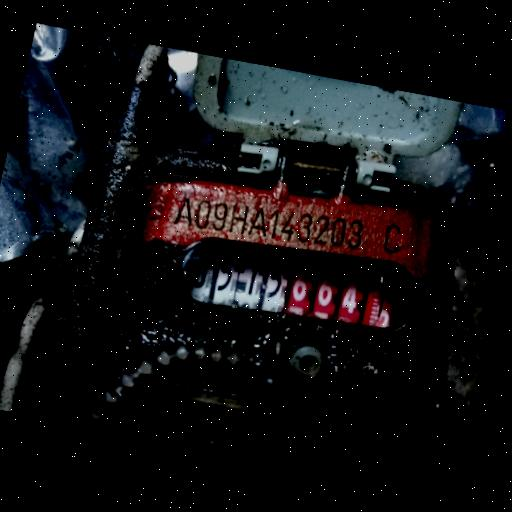0: (186, 246, 218, 298)
4: (333, 264, 371, 325)
5: (258, 253, 293, 314), (209, 249, 245, 307)
6: (306, 258, 346, 321), (282, 256, 321, 317)
7: (233, 249, 271, 311)
border_water_meter_number: (165, 227, 419, 343)
